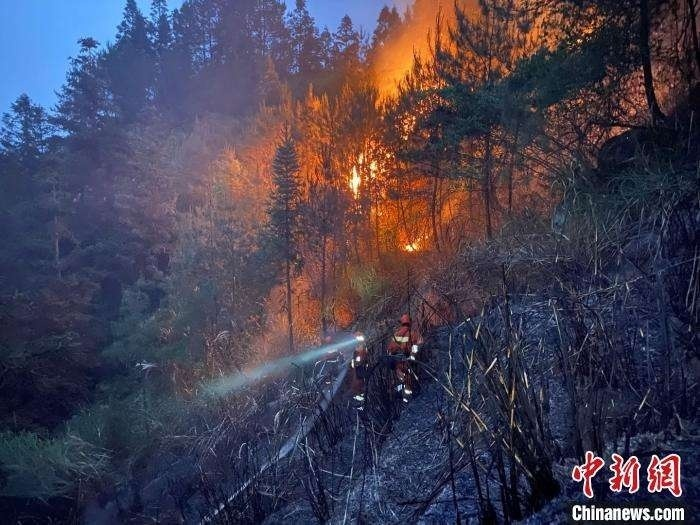fire: (341, 138, 390, 200)
